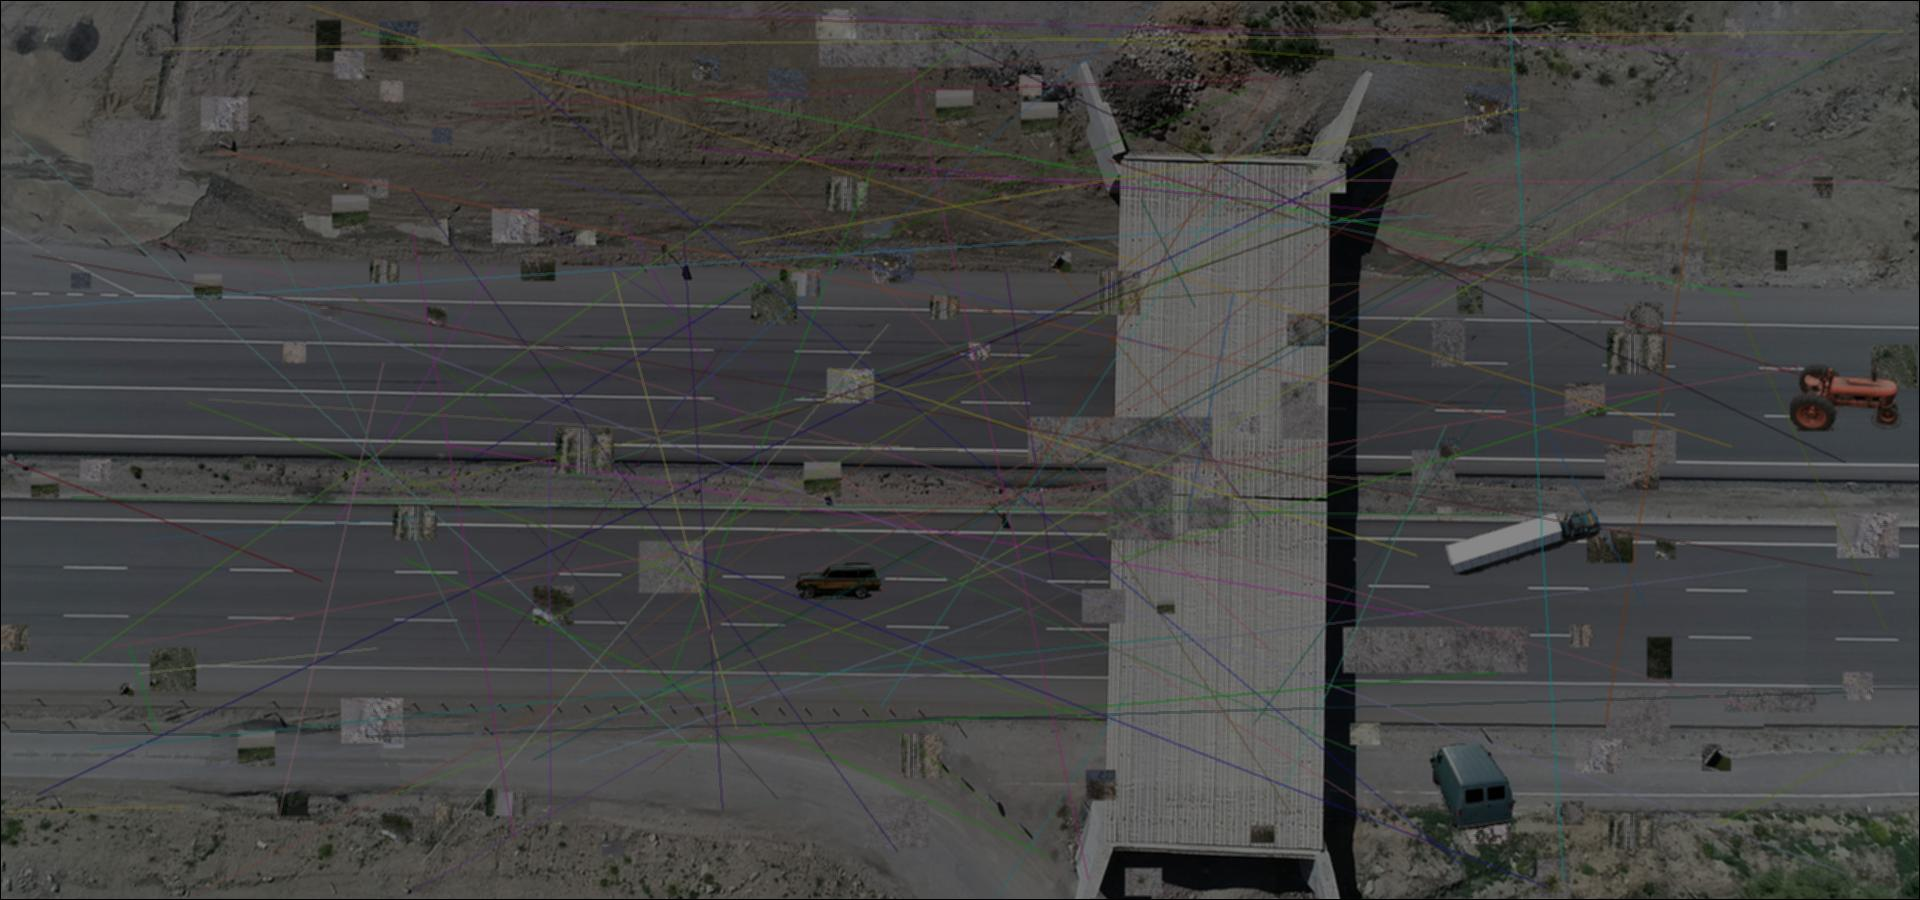arac: (1441, 504, 1600, 576), (1790, 362, 1907, 431), (1430, 744, 1516, 830), (793, 562, 883, 602)
